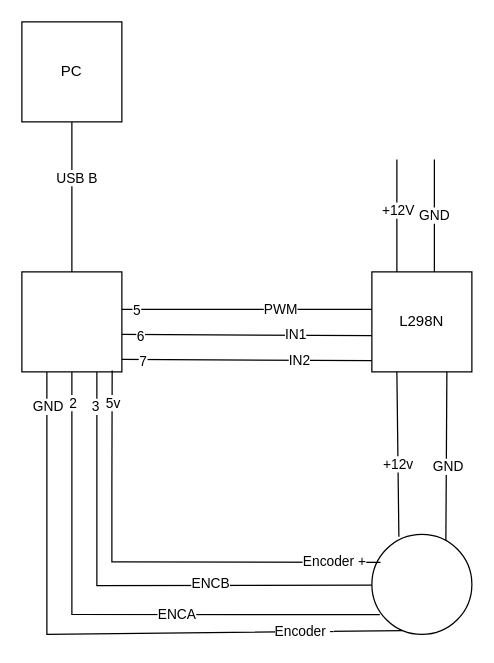
Image size: 494x663. Some labels were removed from this diagram. The shapes that lost their labels are listed below. From the top down, each one's box as (x1, y1, x2, y2) in pixels, then its label:
(21, 271, 122, 372): Arduino 1
(371, 533, 472, 634): Dc Motor with Encoder
